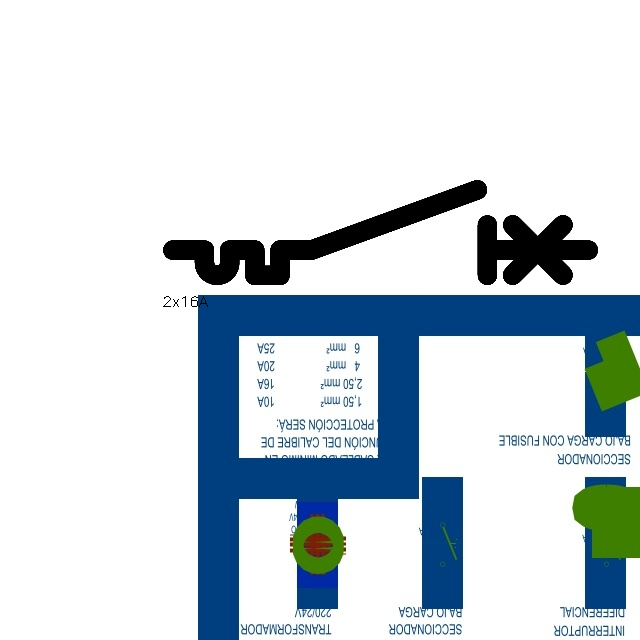interruptor_termomagnetico: (162, 179, 599, 286)
